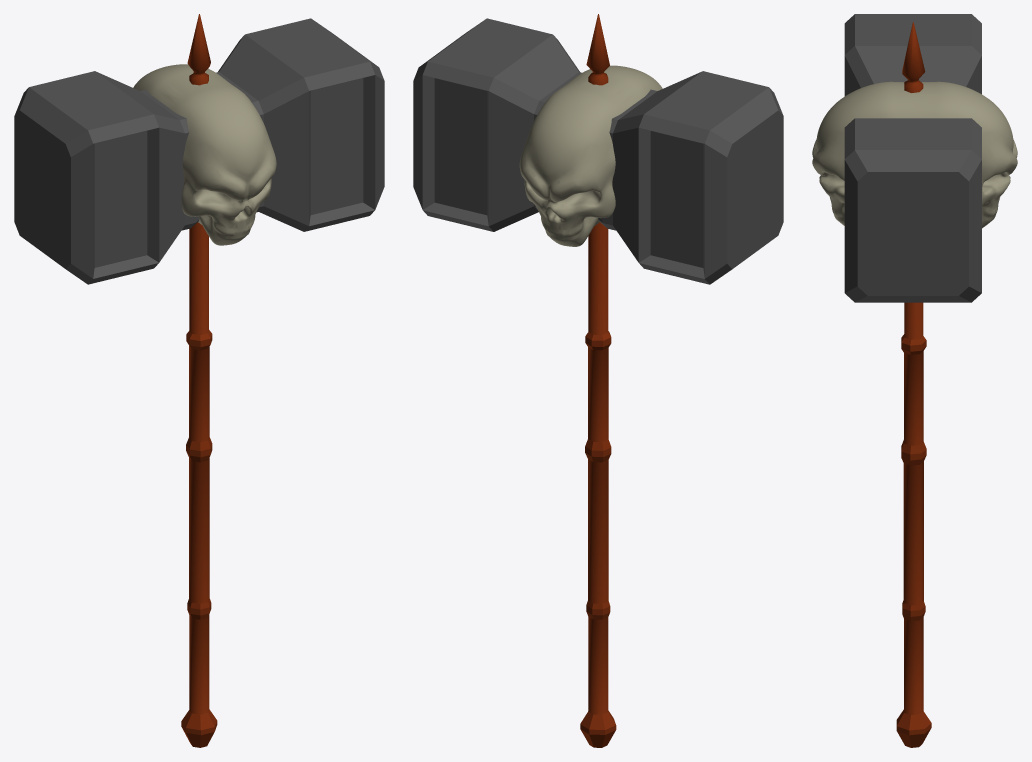
File: HAMMER.fbx
3 renders of one model, left to right at view 1: azimuth 30°, elevation 25°; view 2: azimuth 150°, elevation 25°; view 3: azimuth 270°, elevation 25°, orthographic.
Visible parts, largest first — view 1: Cube; view 2: Cube; view 3: Cube.
Part boxes in pixels (x1,y1,x2,y2): Cube: (14,14,384,747); Cube: (413,14,783,747); Cube: (812,14,1017,747).
Bounding box in the file's own units: 71.51 × 159 × 41.
